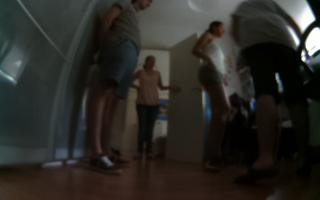person: (230, 1, 315, 176), (85, 1, 154, 174), (180, 14, 240, 172), (131, 51, 180, 174)
